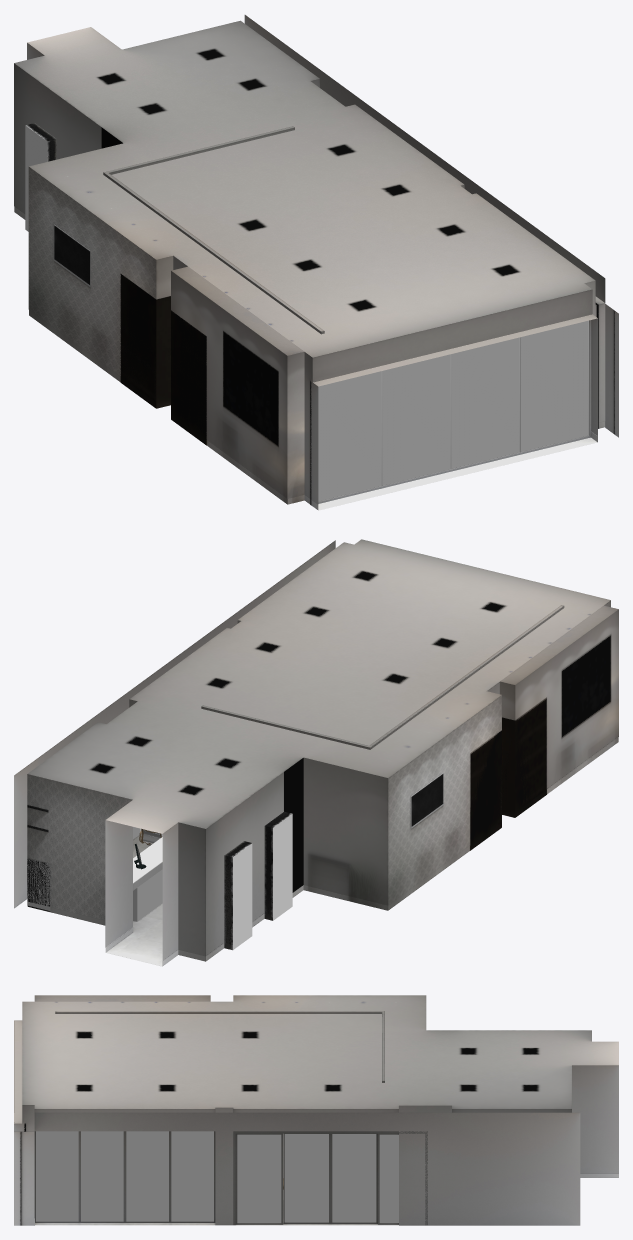
The picture shows the model from 3 angles, top to bottom: view 1: azimuth 30°, elevation 25°; view 2: azimuth 150°, elevation 25°; view 3: azimuth 270°, elevation 25°; orthographic projection. The views are drawn at different scales.
Parts seen in each view (by area): view 1: Object059, PAREDE, Box135, MISCELANEOUS, Object060; view 2: Object059, PAREDE, MISCELANEOUS, Object060, Object063, Box138, Box144, Group002; view 3: Object059, PAREDE, Group002, MISCELANEOUS, Object060.
Part boxes in pixels (x1,y1,x2,y2): Object059: [14, 20, 595, 357]; PAREDE: [14, 15, 618, 509]; Box135: [318, 320, 588, 501]; MISCELANEOUS: [25, 123, 598, 505]; Object060: [318, 437, 597, 510]; Object059: [28, 539, 610, 833]; PAREDE: [14, 540, 618, 966]; MISCELANEOUS: [27, 717, 546, 950]; Object060: [106, 828, 162, 966]; Object063: [284, 758, 303, 892]; Box138: [27, 858, 50, 910]; Box144: [133, 869, 162, 921]; Group002: [133, 828, 162, 883]; Object059: [22, 995, 618, 1108]; PAREDE: [14, 995, 618, 1225]; Group002: [36, 1131, 398, 1222]; MISCELANEOUS: [24, 1123, 427, 1225]; Object060: [35, 1134, 398, 1225].
Size of the model in its own units: 671 by 306 by 1460.
